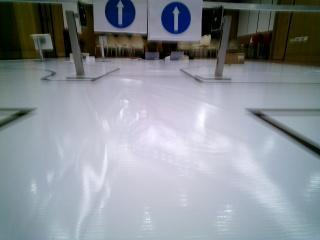straight: (94, 0, 150, 33), (153, 0, 199, 40)
